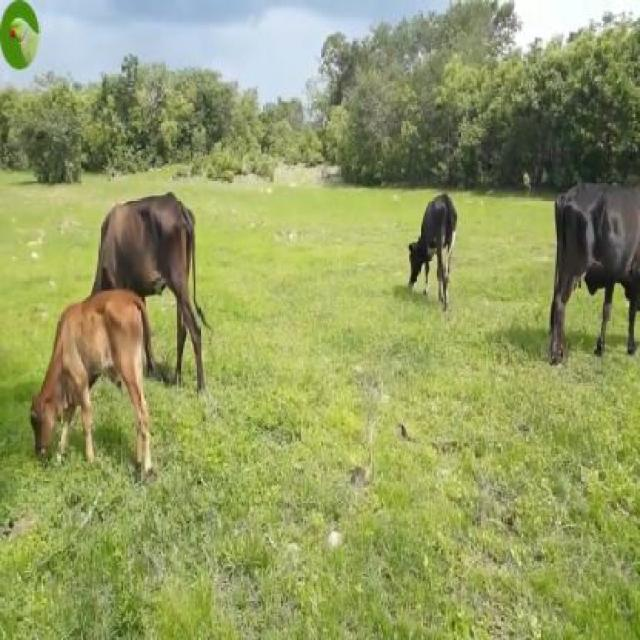Cow: (31, 289, 152, 477), (408, 188, 458, 314)
